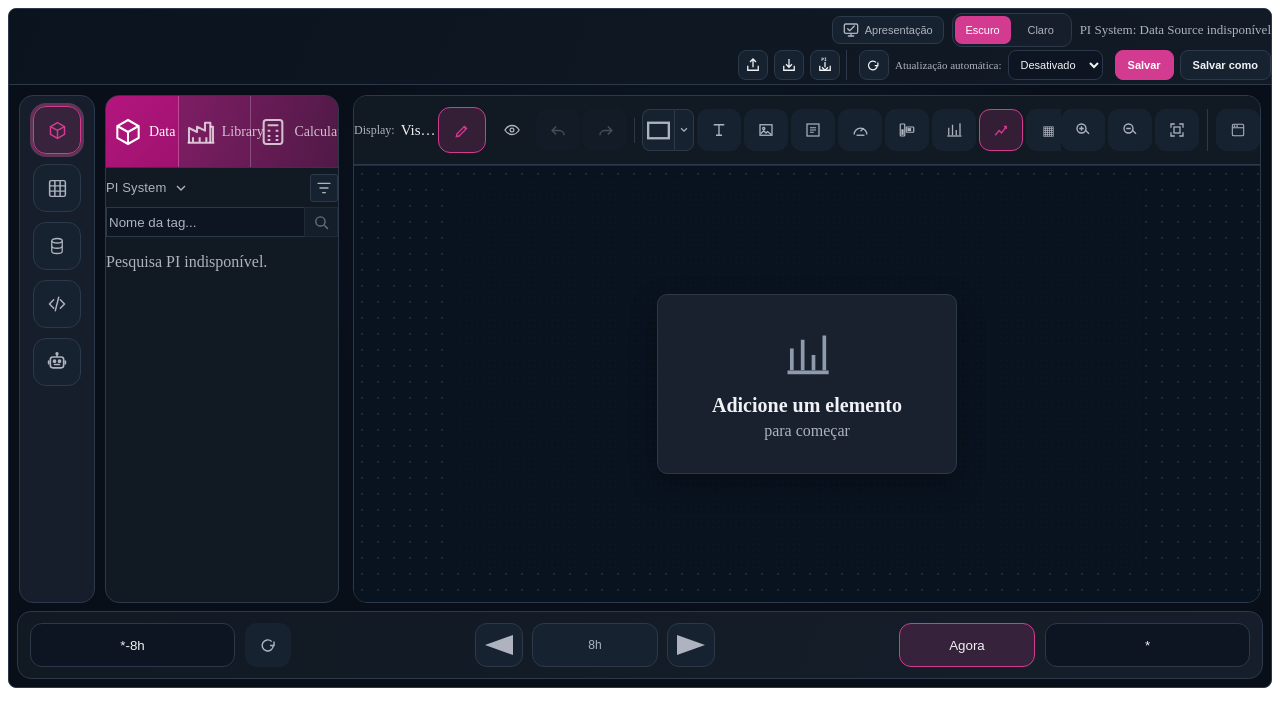
Scenario: App › mantém o botão do PiChat visível quando o backend está indisponível
The width and height of the screenshot is (1280, 720).
Click the button with test id "pims-vision-pichat-tab" at x=57, y=362, box [33,338,81,386]
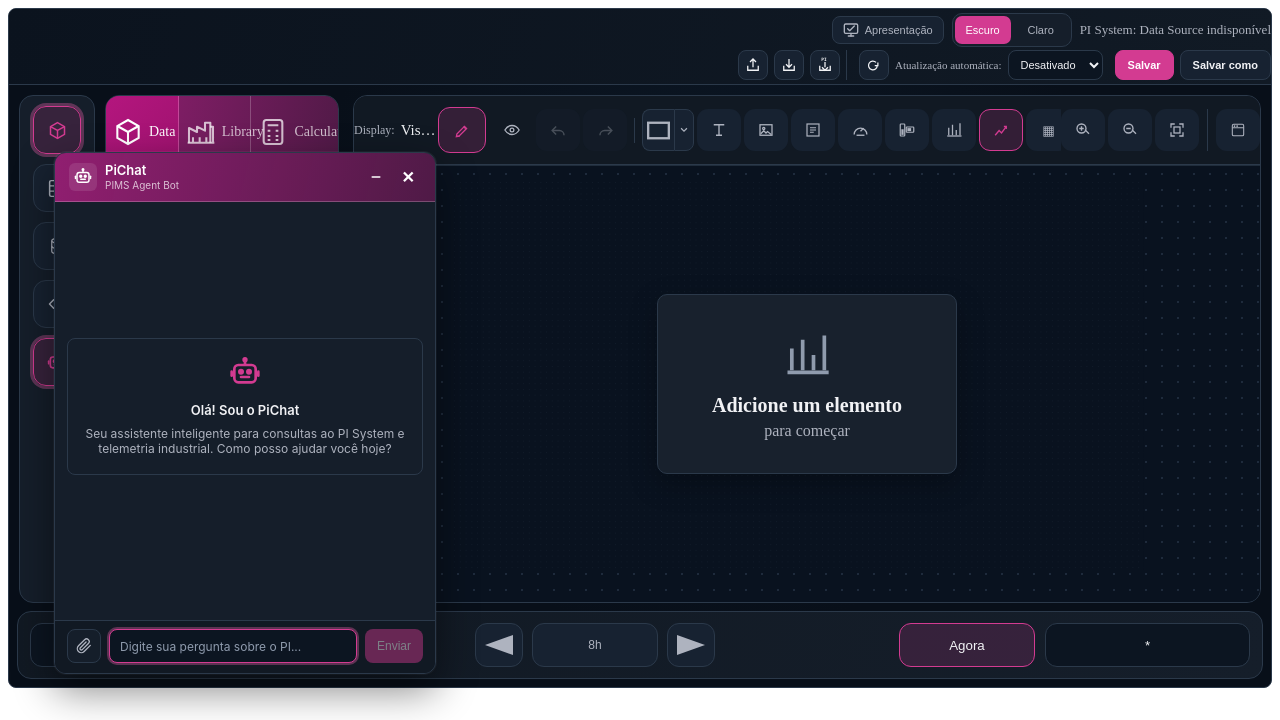
Result: the dialog with test id "pichat-popover" is shown at [54,152,436,674]
